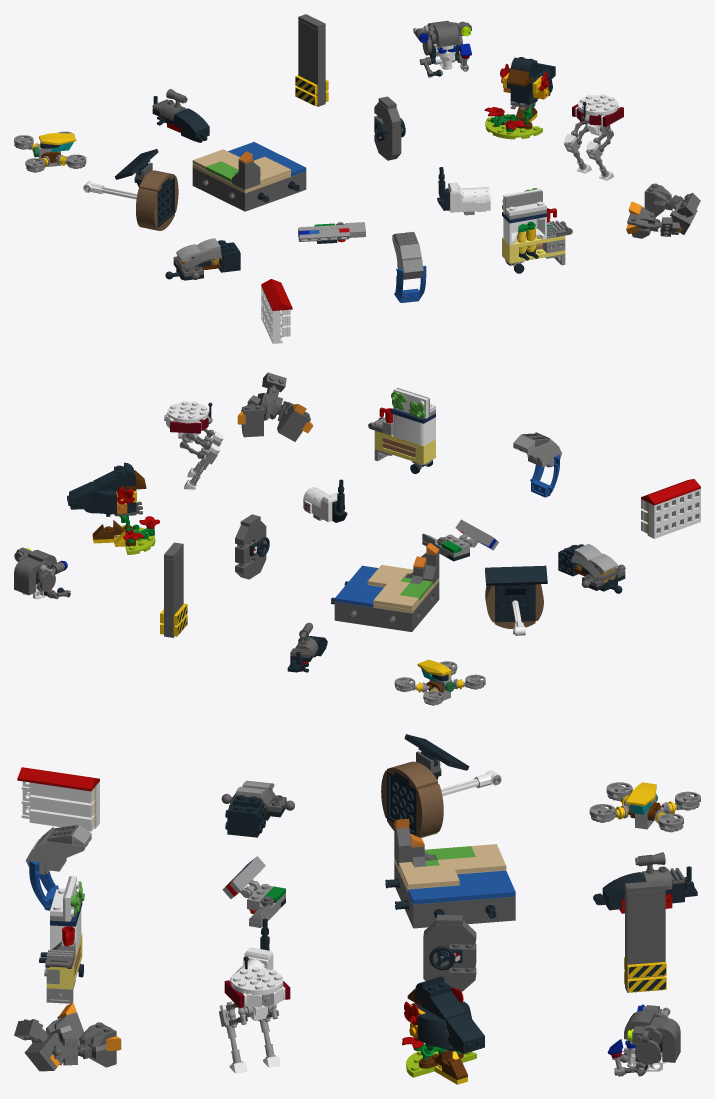
3 renders of one model, top to bottom at view 1: azimuth 30°, elevation 25°; view 2: azimuth 150°, elevation 25°; view 3: azimuth 270°, elevation 25°, orthographic. The views are drawn at different scales.
Visible parts, largest first — view 1: 60474, 3031, 4594, 18646, 47755; view 2: 69729, 4594, 60474, 3709b, 80178, 3678b; view 3: 3622 (×5), 87079 (×3), 2431 (×3), 3031, 60474, 3678b, 63864p05 (×2), 80177, 3298, 47755, 69729, 41539 (+4 smaller).
Part boxes in pixels (left/top/right/bottom): 60474: left=578, top=94, right=618, bottom=115; 3031: left=157, top=177, right=174, bottom=227; 4594: left=503, top=217, right=546, bottom=245; 18646: left=485, top=117, right=542, bottom=139; 47755: left=394, top=265, right=426, bottom=302; 69729: left=485, top=565, right=547, bottom=585; 4594: left=393, top=414, right=435, bottom=445; 60474: left=167, top=401, right=208, bottom=423; 3709b: left=495, top=593, right=535, bottom=612; 80178: left=86, top=490, right=116, bottom=513; 3678b: left=67, top=481, right=95, bottom=509; 3622 (×5): left=625, top=888, right=665, bottom=964; 87079 (×3): left=408, top=870, right=515, bottom=904; 2431 (×3): left=29, top=782, right=79, bottom=827; 3031: left=387, top=771, right=416, bottom=835; 60474: left=231, top=966, right=283, bottom=995; 3678b: left=445, top=1013, right=484, bottom=1053; 63864p05 (×2): left=627, top=962, right=666, bottom=992; 80177: left=417, top=1014, right=452, bottom=1049; 3298: left=422, top=991, right=466, bottom=1020; 47755: left=29, top=861, right=58, bottom=910; 69729: left=404, top=734, right=469, bottom=770; 41539: left=394, top=862, right=515, bottom=909.
Bounding box in the file's own units: 1075 × 181 × 1054.
